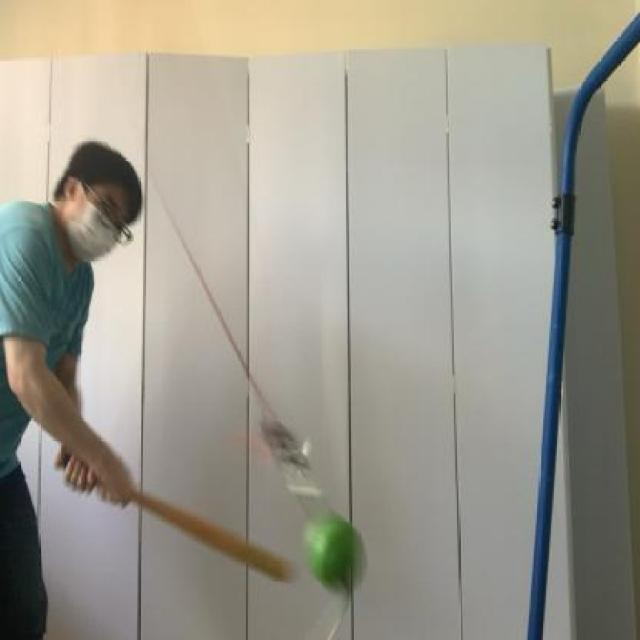baseball: (299, 505, 376, 601)
